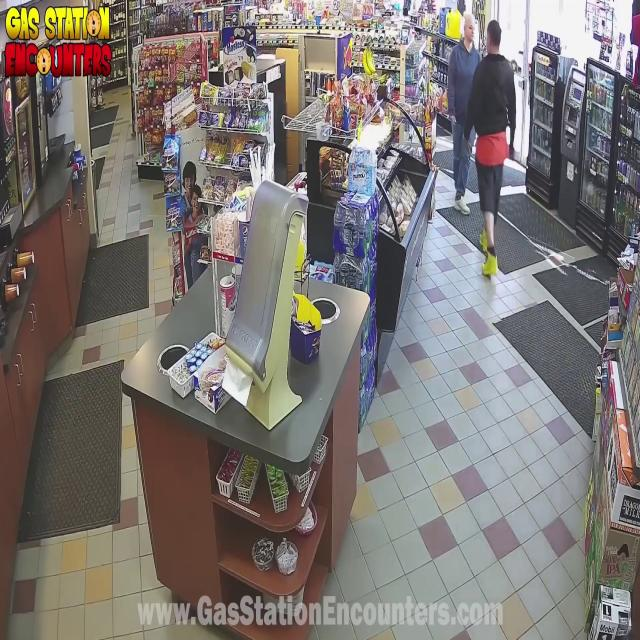normal: (472, 9, 545, 263), (439, 5, 490, 189)
